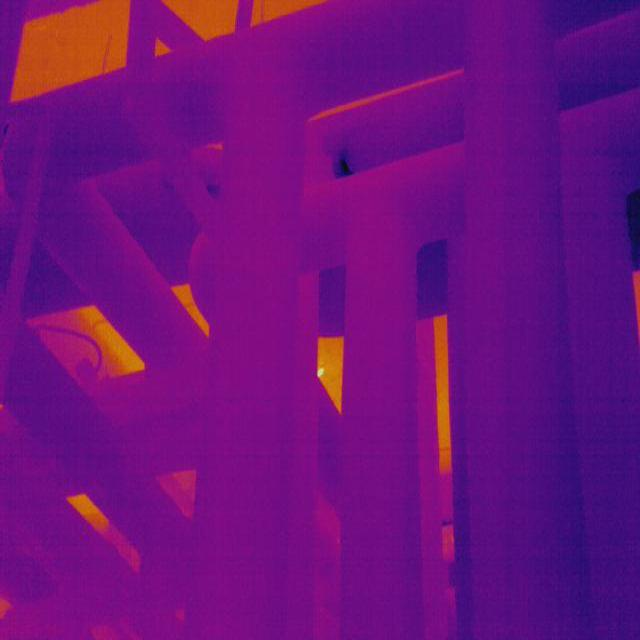leakage: (331, 139, 358, 178)
